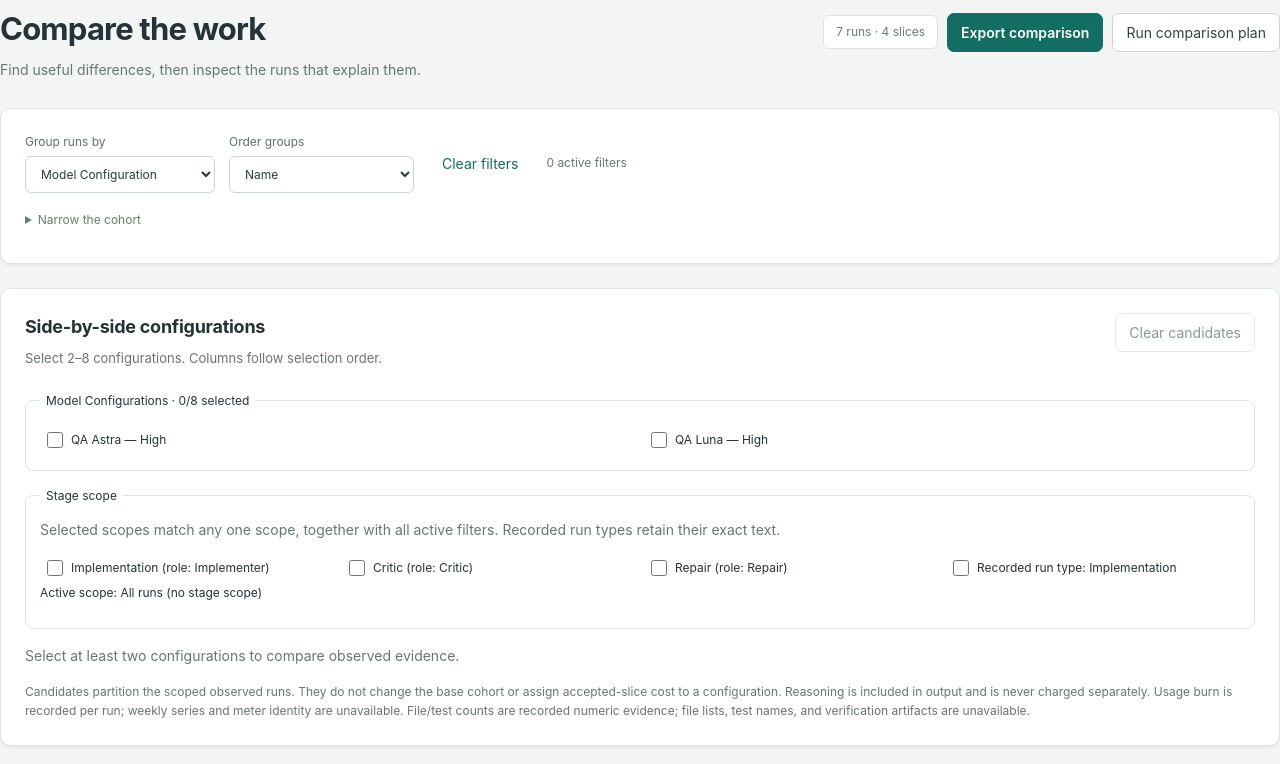
Test: comparison UI uses shared cohort context › runs a plan without changing the current comparison controls and reports success or failure
The image size is (1280, 764).
Click the heading "Narrow the cohort" at [89, 220], box [38, 212, 141, 227]
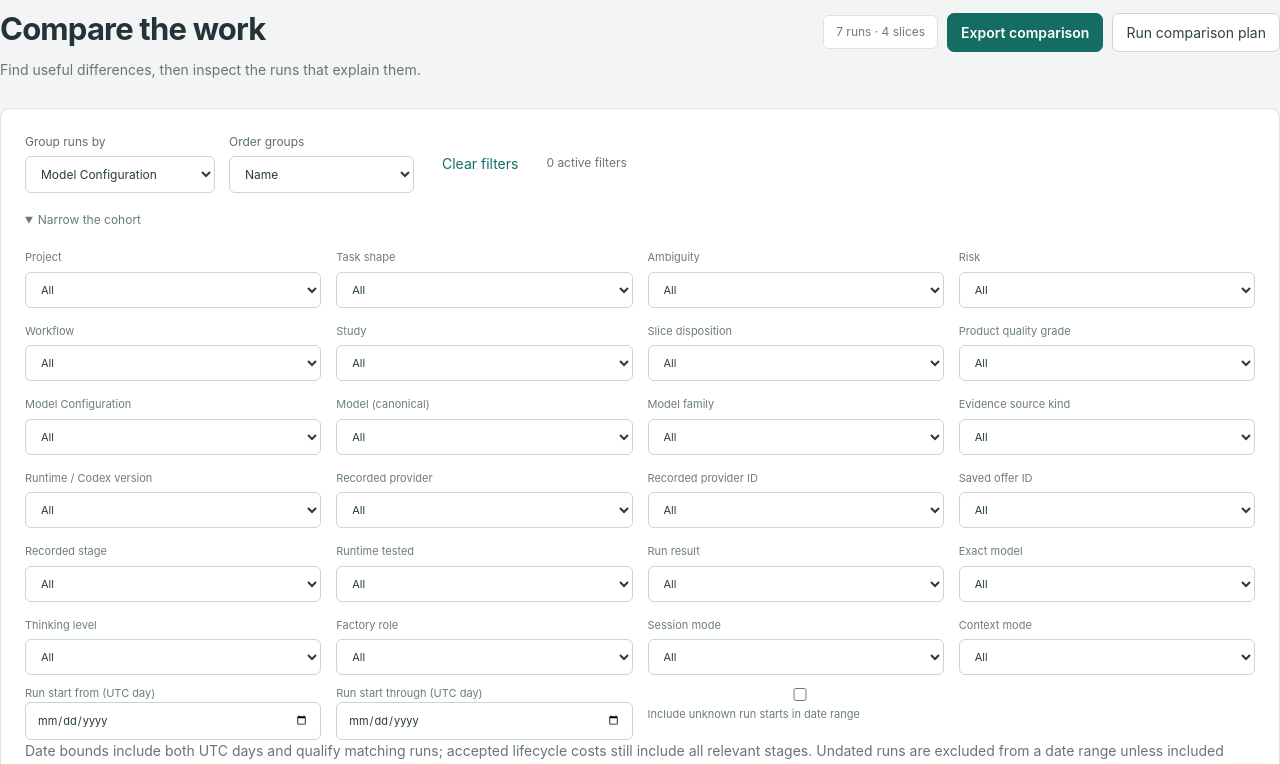
Select "QA Astra" in the dropdown named "Filter Exact model" at [1107, 584], box [959, 566, 1255, 602]
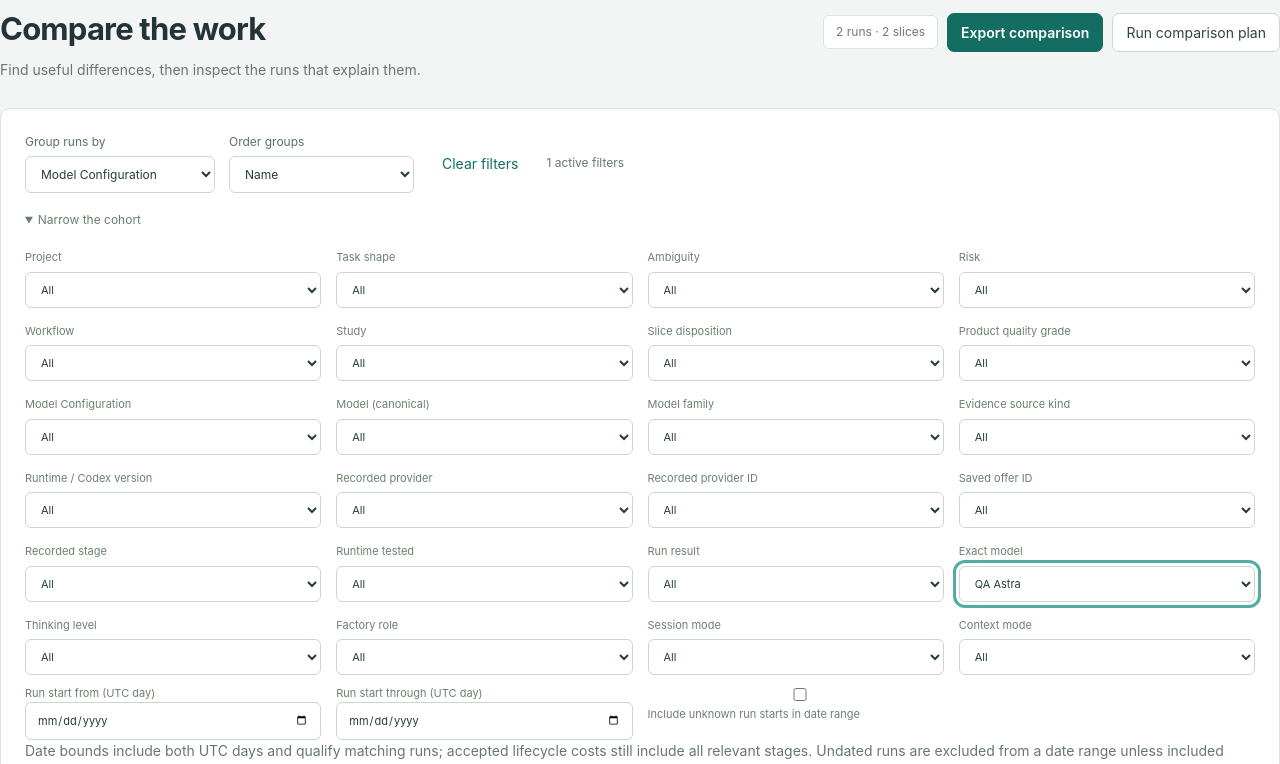
Select "Factory role" in the dropdown labelled "Group runs by" at [120, 175], box [25, 156, 215, 193]
(page scrolled)
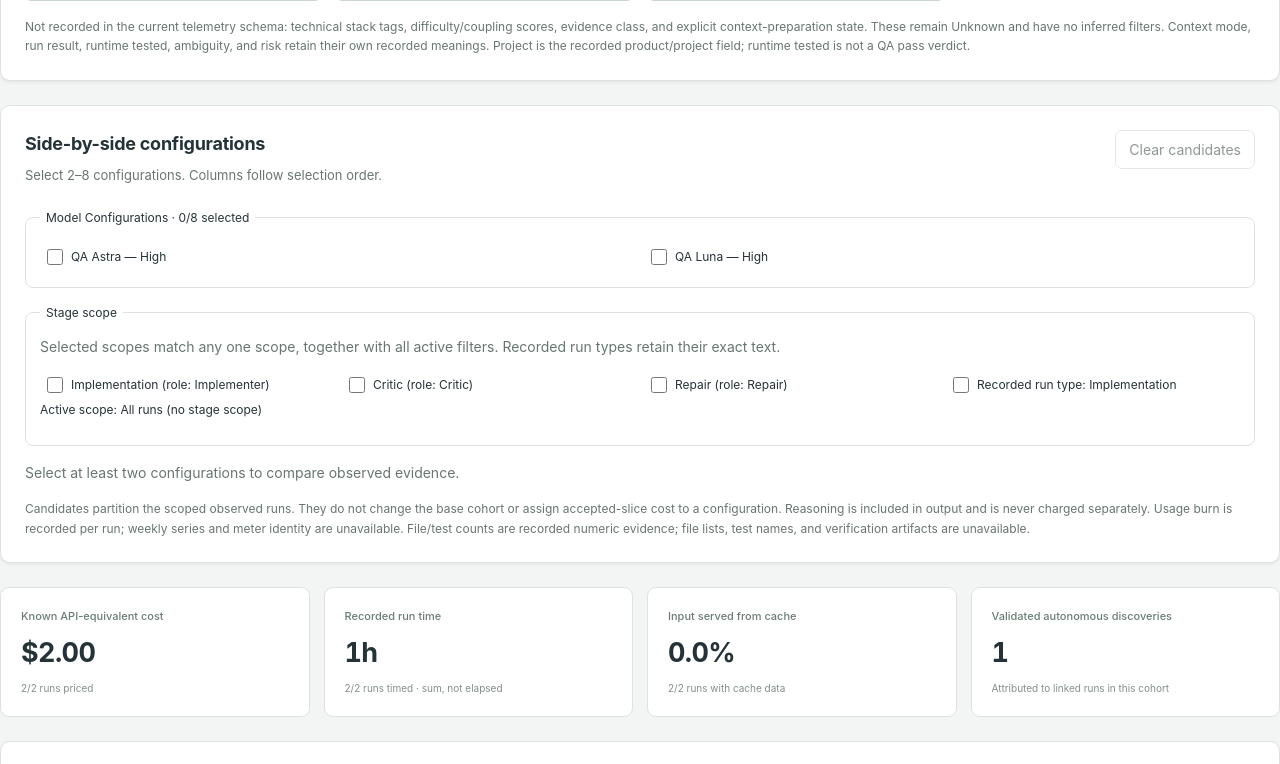
Click the checkbox labelled "Repair (role: Repair)" at [659, 385], box [651, 377, 667, 393]
(page scrolled)
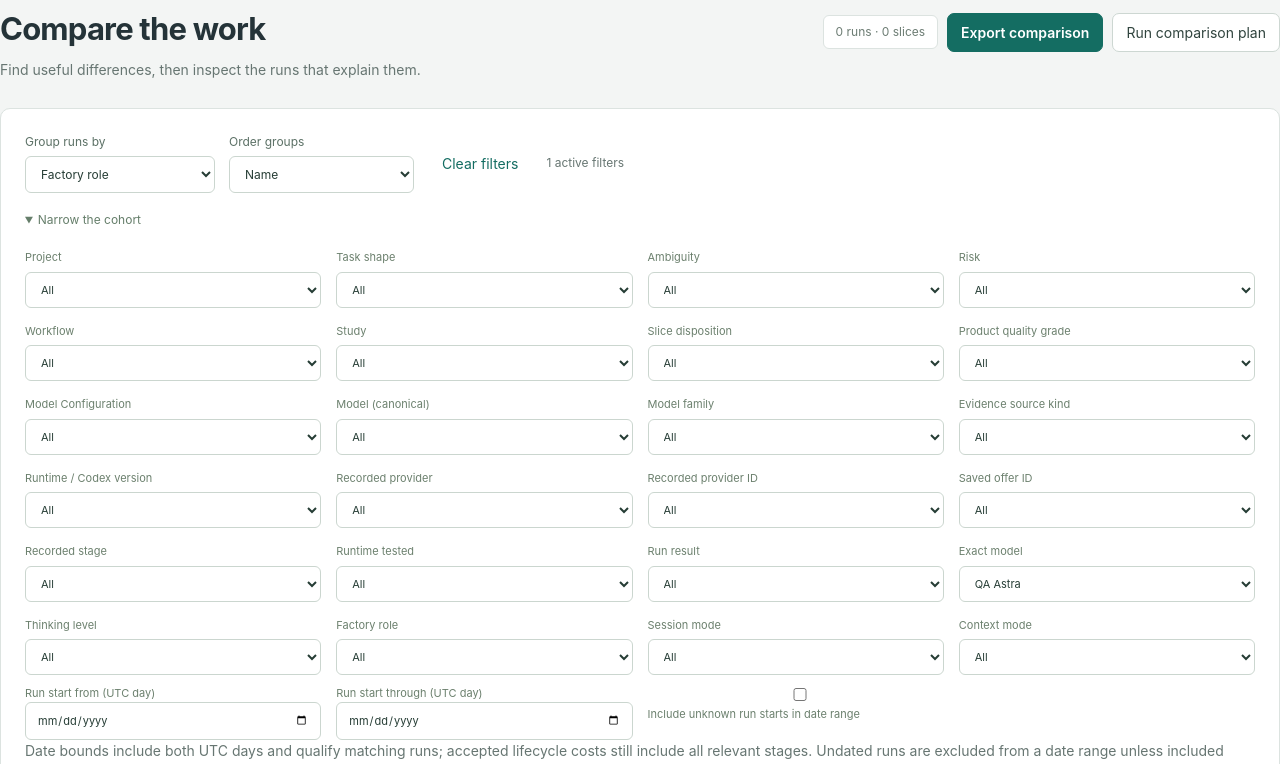
Click the button "Run comparison plan" at [1196, 32], box [1112, 13, 1279, 52]
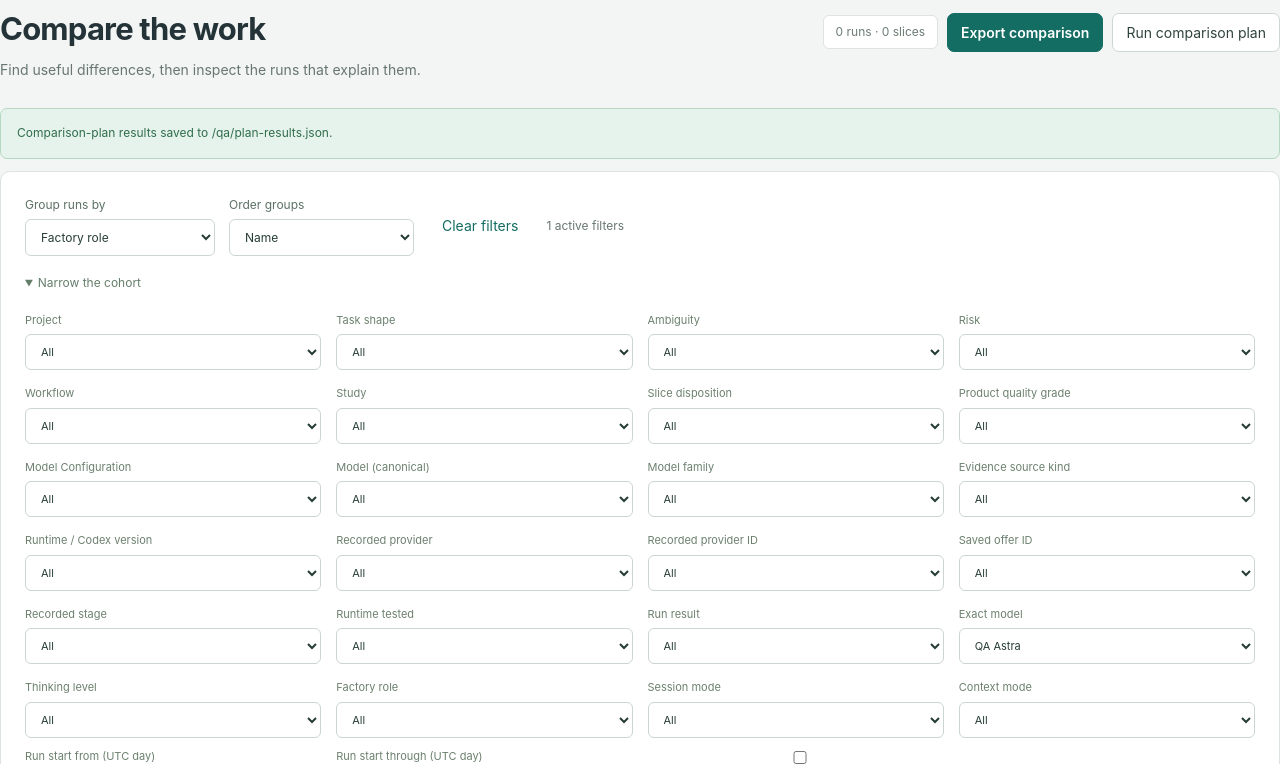
Expected: the message shows "/qa/plan-results.json", [17, 125, 332, 140]
Click the button "Run comparison plan" at [1196, 32], box [1112, 13, 1279, 52]
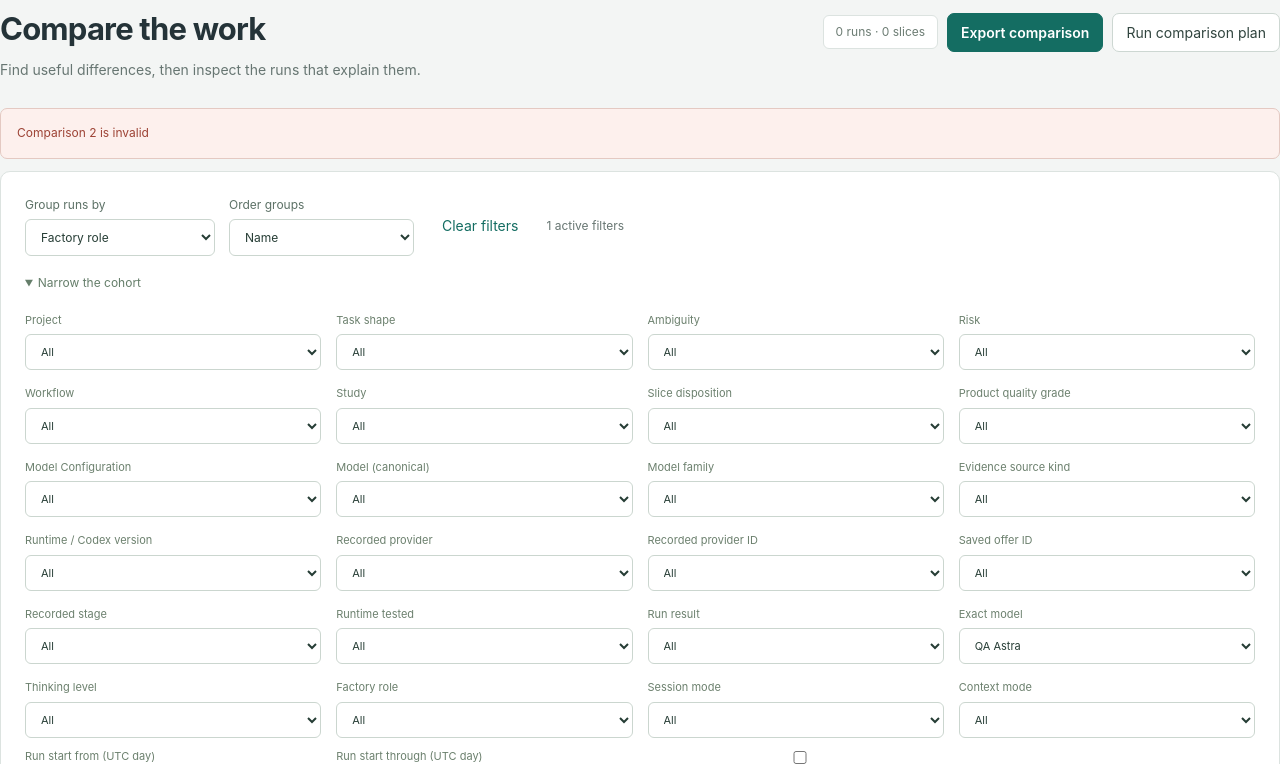
Expected: the message reads "Comparison 2 is invalid", [17, 125, 149, 140]
